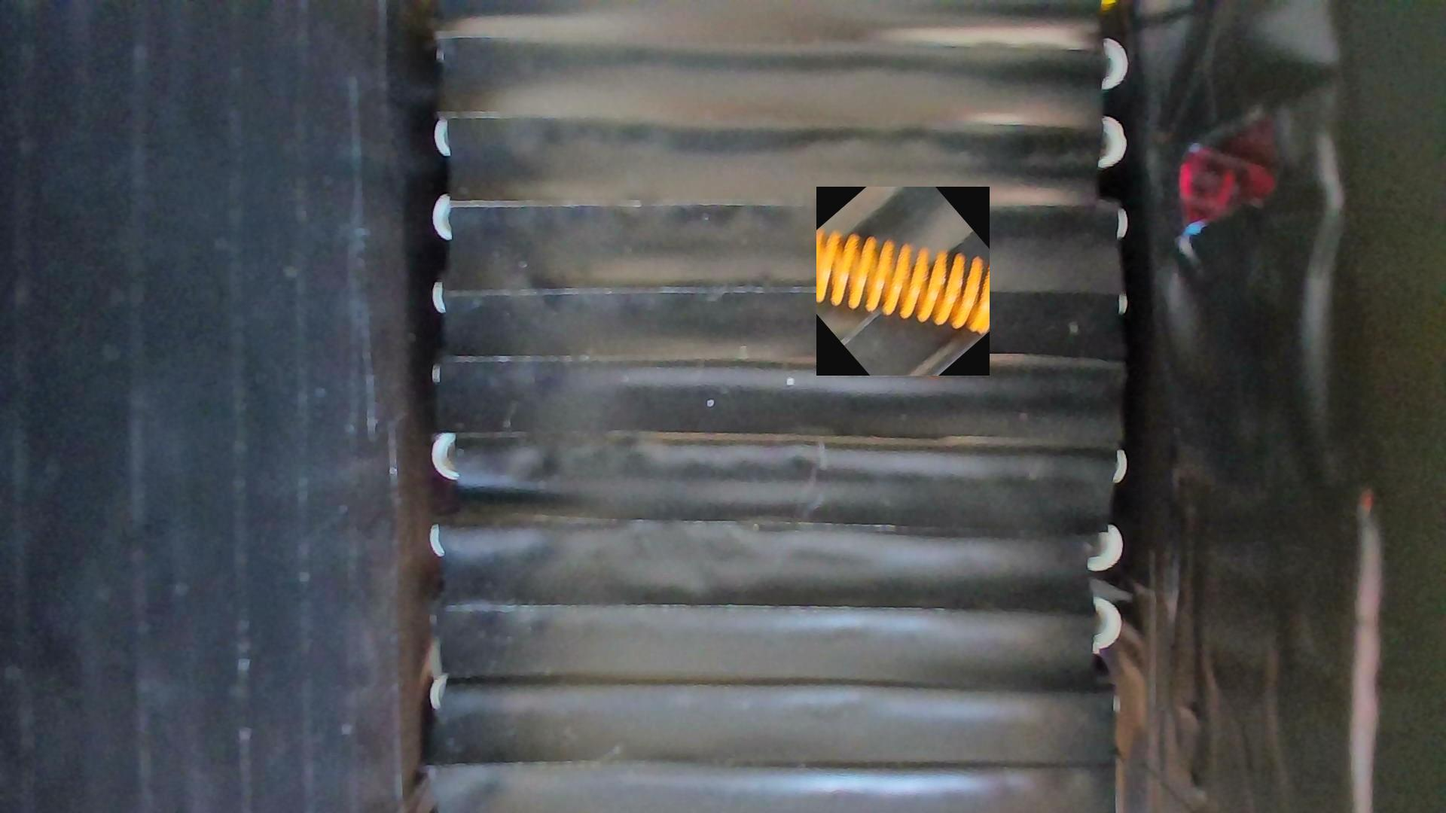spring: (816, 187, 990, 377)
